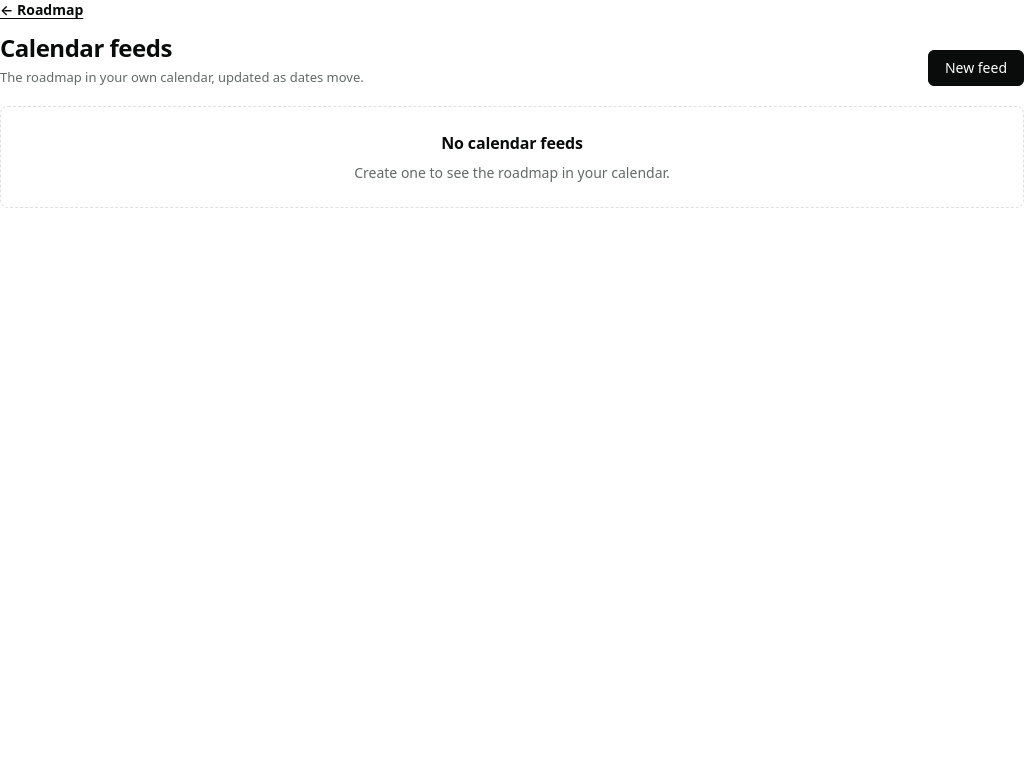
Test: calendar feeds › creates a feed with nothing to fill in, and shows the address once in a dialog with a copy control and the warning
Expected: the heading "No calendar feeds" is shown, [441,132,583,154]
Step 1. Click the button "New feed" → click(976, 68), box [928,50,1023,86]
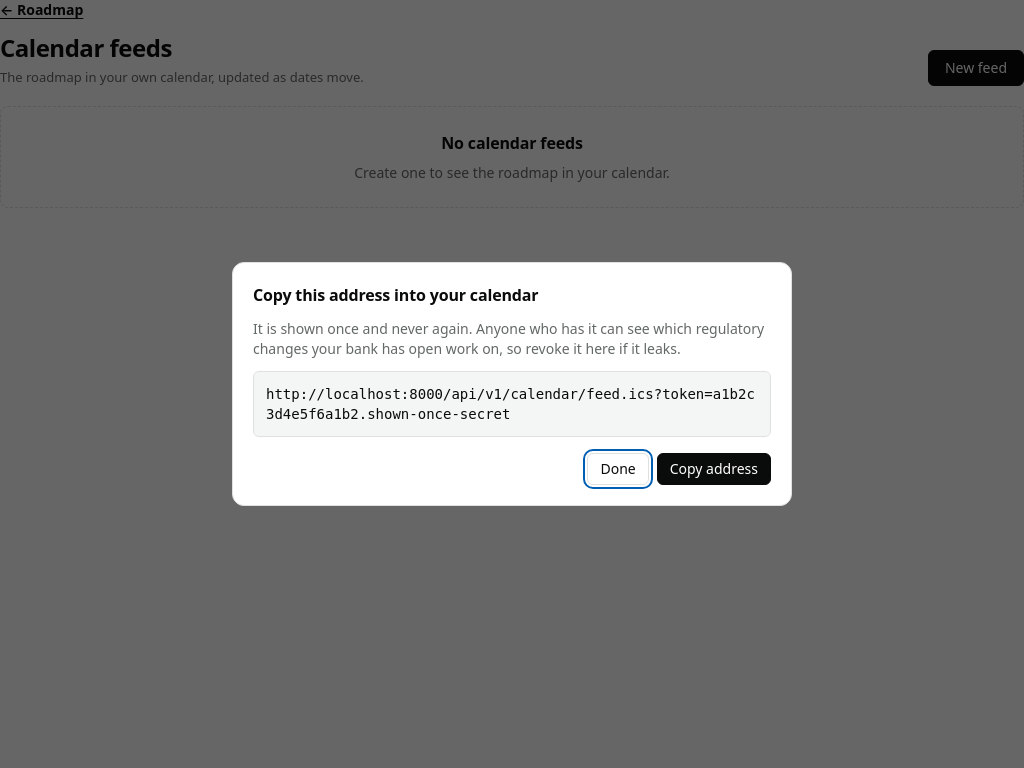
Expected: the text "http://localhost:8000/api/v1/calendar/feed.ics?token=a1b2c3d4e5f6a1b2.shown-once-secret" is shown, [266,386,755,422]
Expected: the dialog "Copy this address into your calendar" shows "It is shown once and never again.", [253,319,764,358]
Expected: the dialog "Copy this address into your calendar" shows "which regulatory changes your bank has open work on", [253,319,764,358]
Step 2. Click the button "Copy address" → click(714, 469), box [657,453,771,485]
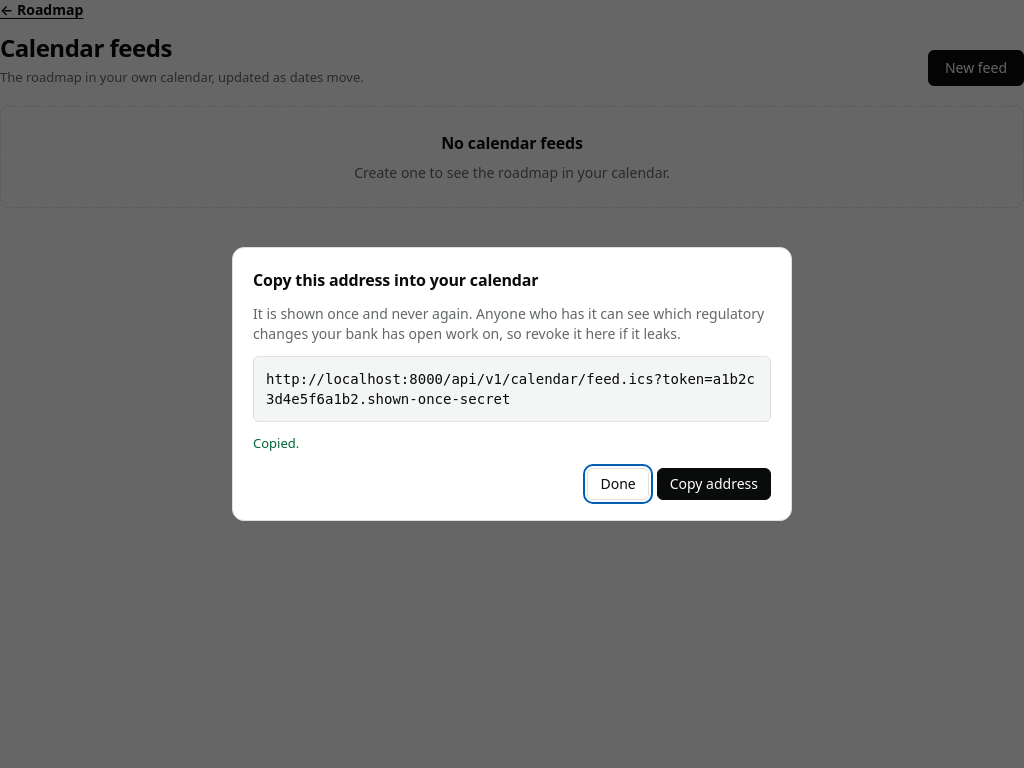
Expected: the text "Copied." is shown, [253,434,299,452]
Step 3. Click the button "Done" → click(618, 484), box [587,468,649,500]
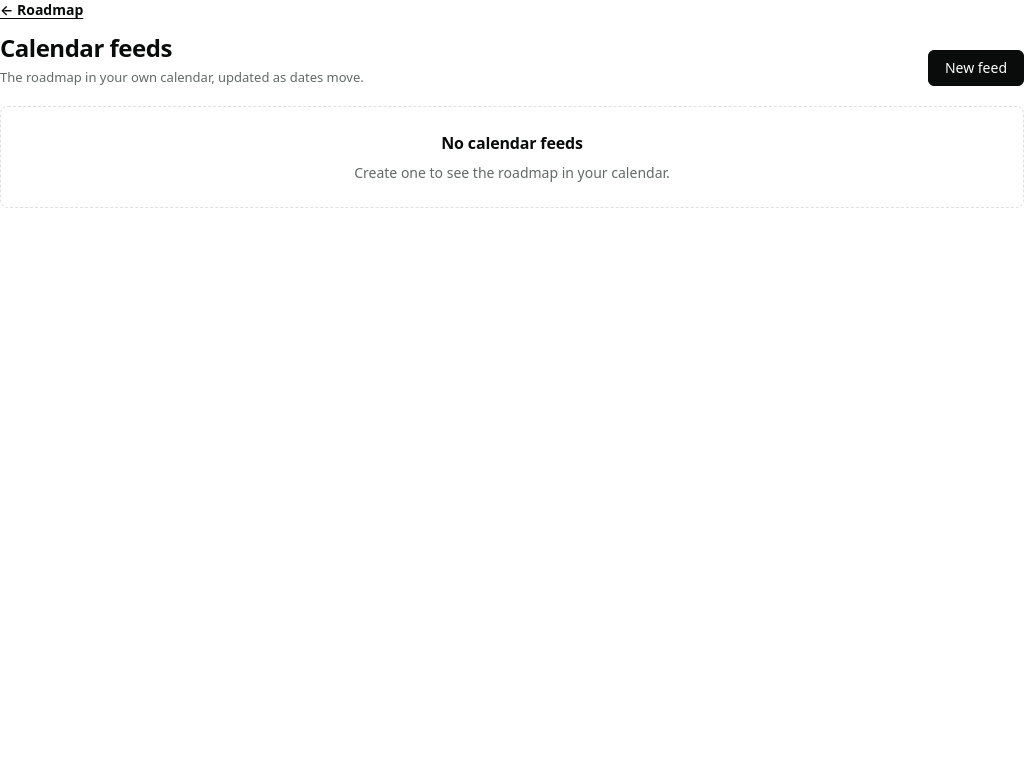
Expected: the dialog is gone
Expected: the text "shown-once-secret" is gone
